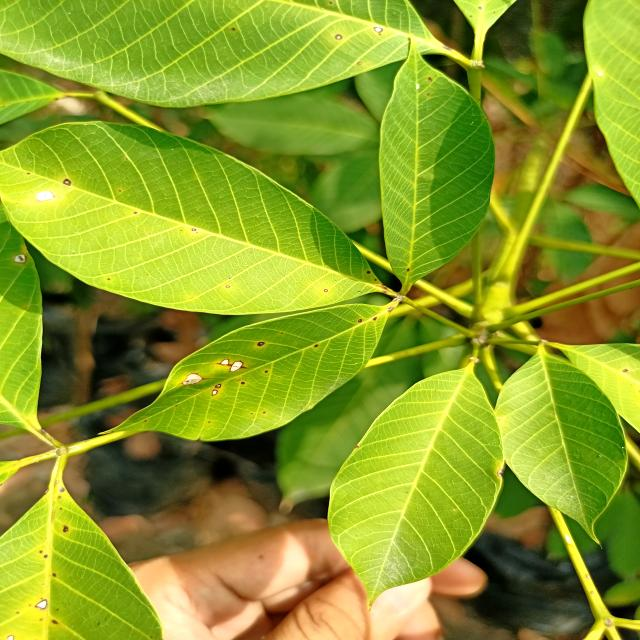Colletotrichum: (182, 373, 202, 385), (36, 191, 55, 201), (230, 360, 243, 372), (34, 599, 48, 610), (14, 254, 26, 264), (220, 359, 230, 365), (63, 179, 71, 186), (212, 389, 218, 396), (7, 634, 14, 640), (63, 526, 69, 532), (257, 342, 265, 346), (215, 384, 221, 388), (622, 369, 628, 372), (192, 228, 196, 232), (366, 271, 371, 274), (324, 289, 328, 292), (314, 344, 318, 347), (358, 319, 362, 322), (373, 317, 377, 320), (407, 268, 409, 272), (226, 286, 230, 288), (241, 382, 245, 384), (265, 371, 268, 373), (374, 279, 376, 281)
